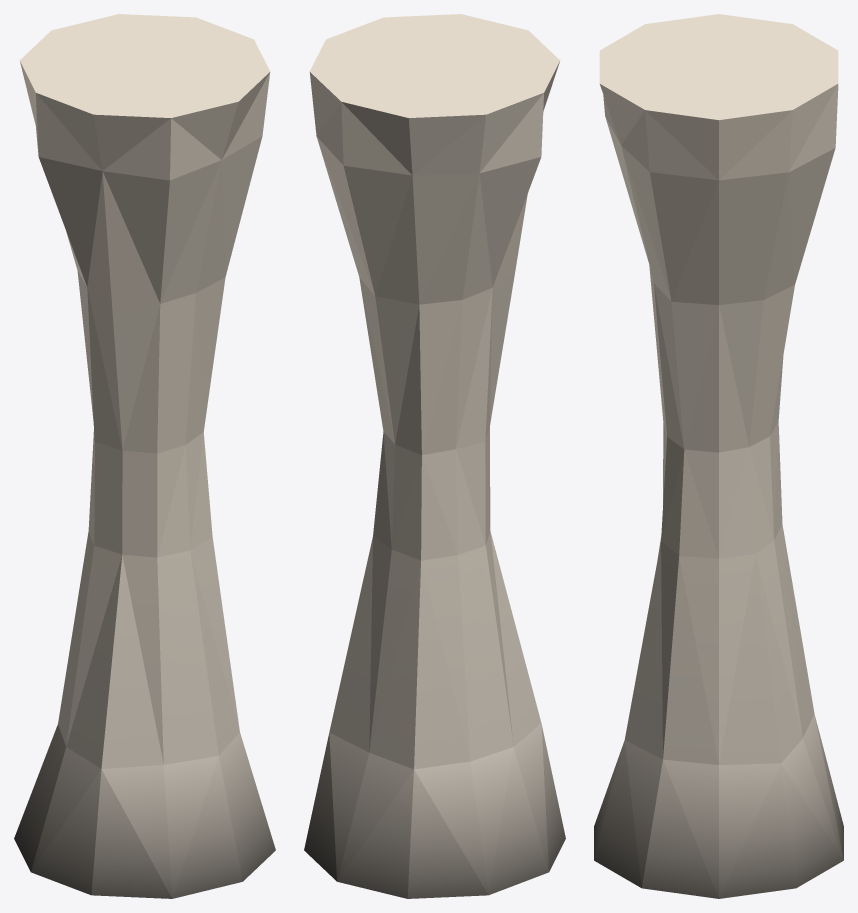
The model's file is SM_VKI_Prop_RockPillar_Full.fbx.
3 renders of one model, left to right at view 1: azimuth 30°, elevation 25°; view 2: azimuth 150°, elevation 25°; view 3: azimuth 270°, elevation 25°, orthographic.
Visible parts, largest first — view 1: SM_VKI_Prop_RockPillar_Full.001; view 2: SM_VKI_Prop_RockPillar_Full.001; view 3: SM_VKI_Prop_RockPillar_Full.001.
Part boxes in pixels (<box>): SM_VKI_Prop_RockPillar_Full.001: <box>14,14,275,898</box>; SM_VKI_Prop_RockPillar_Full.001: <box>304,14,565,898</box>; SM_VKI_Prop_RockPillar_Full.001: <box>594,14,843,898</box>.
Size of the model in its own units: 0.92 by 3 by 0.875.
